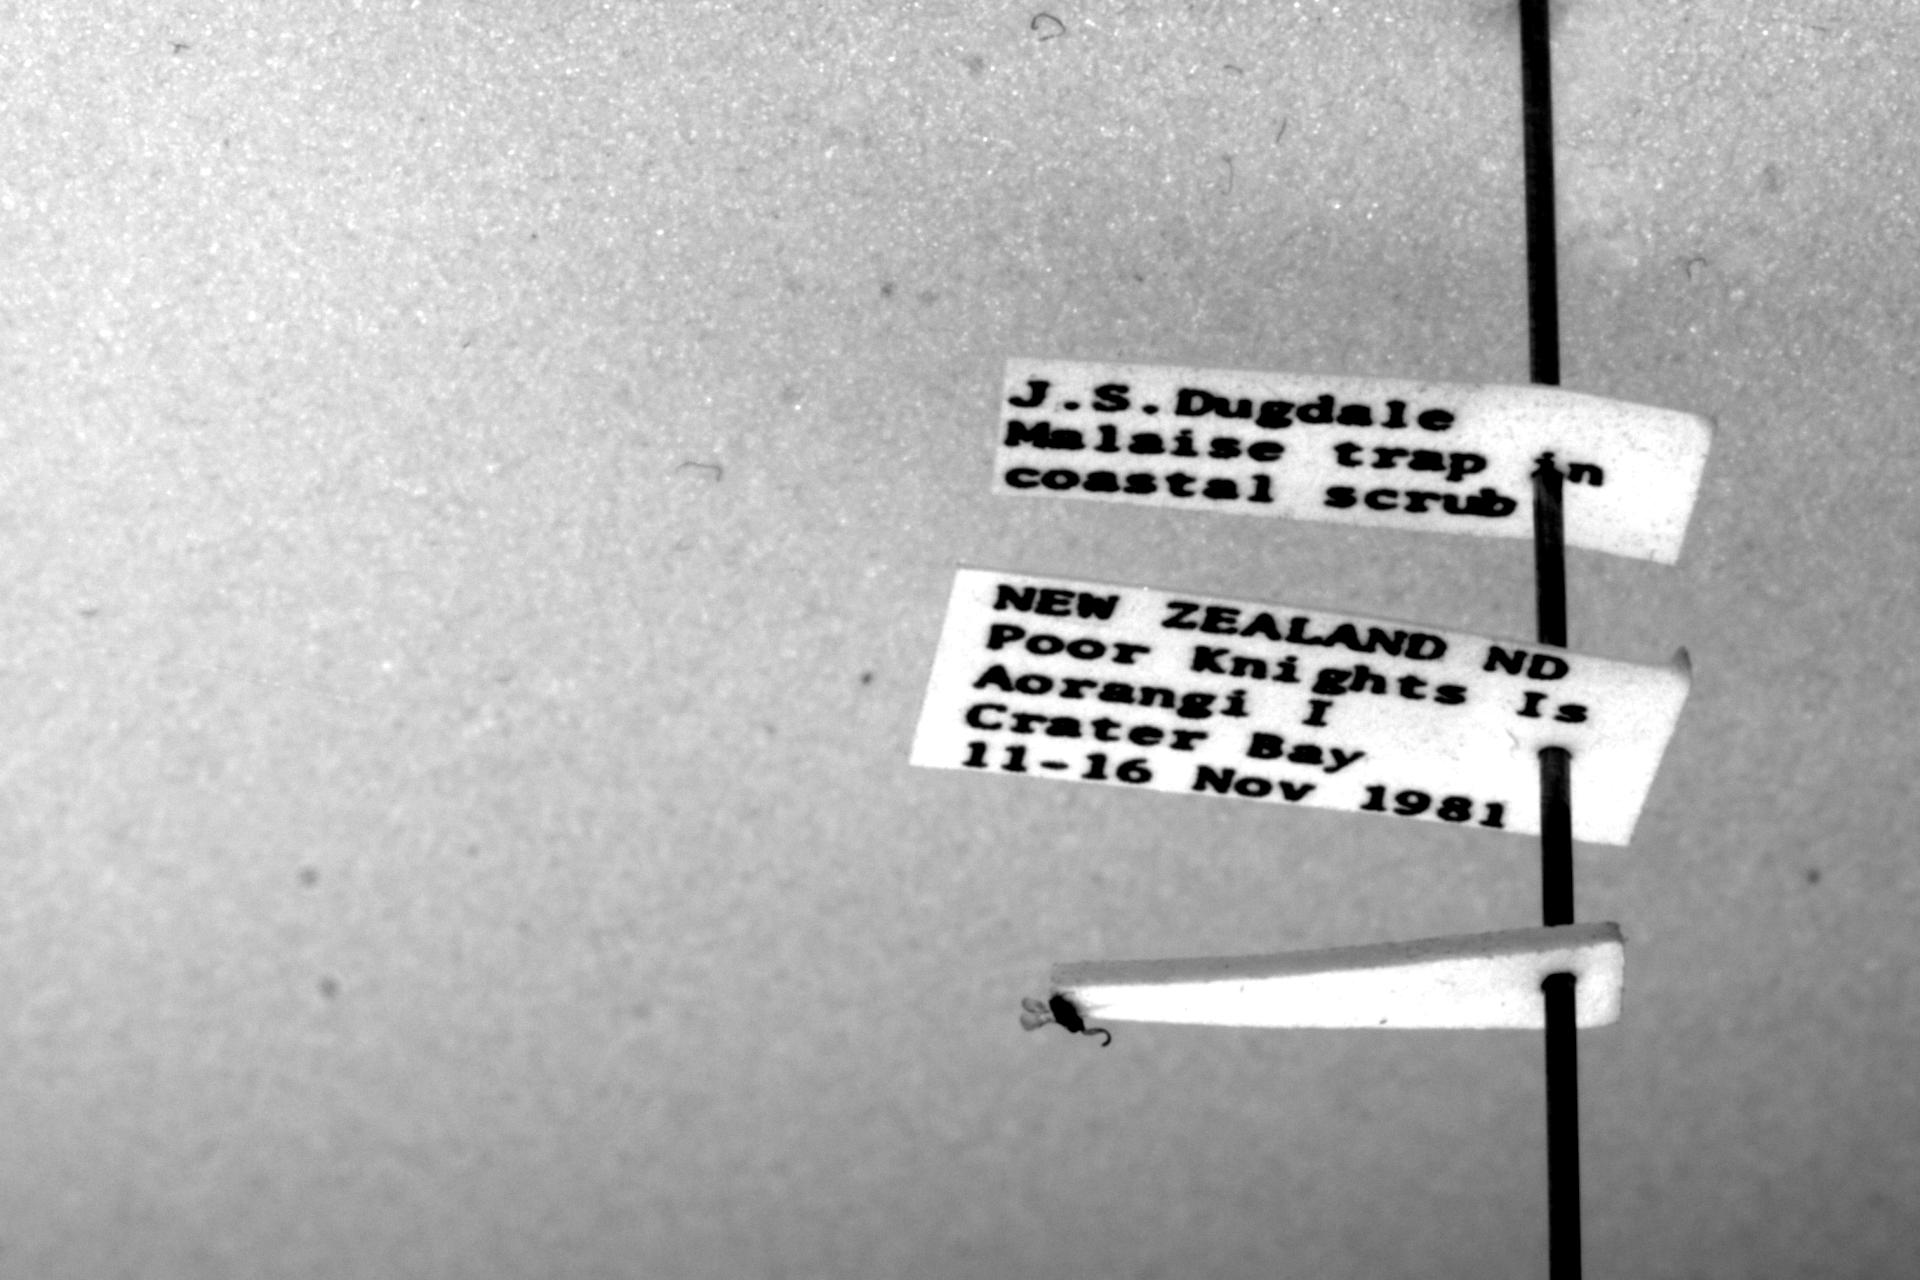typed_label: (911, 566, 1691, 844), (994, 356, 1714, 563)
